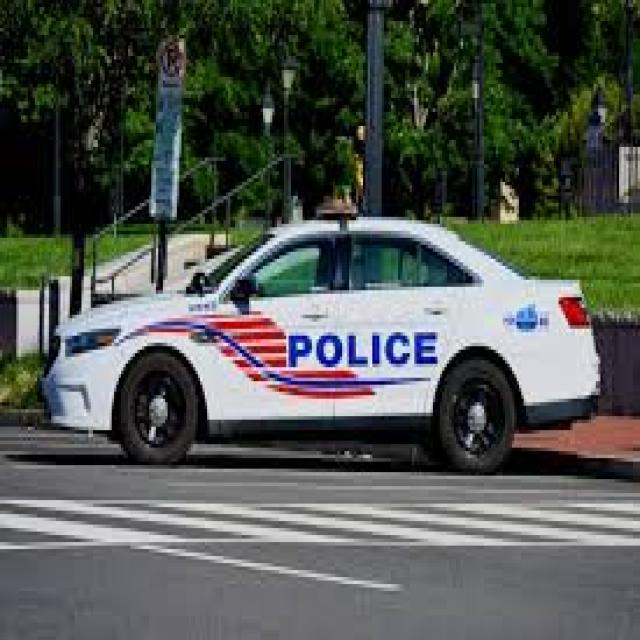Police: (31, 194, 612, 487)
